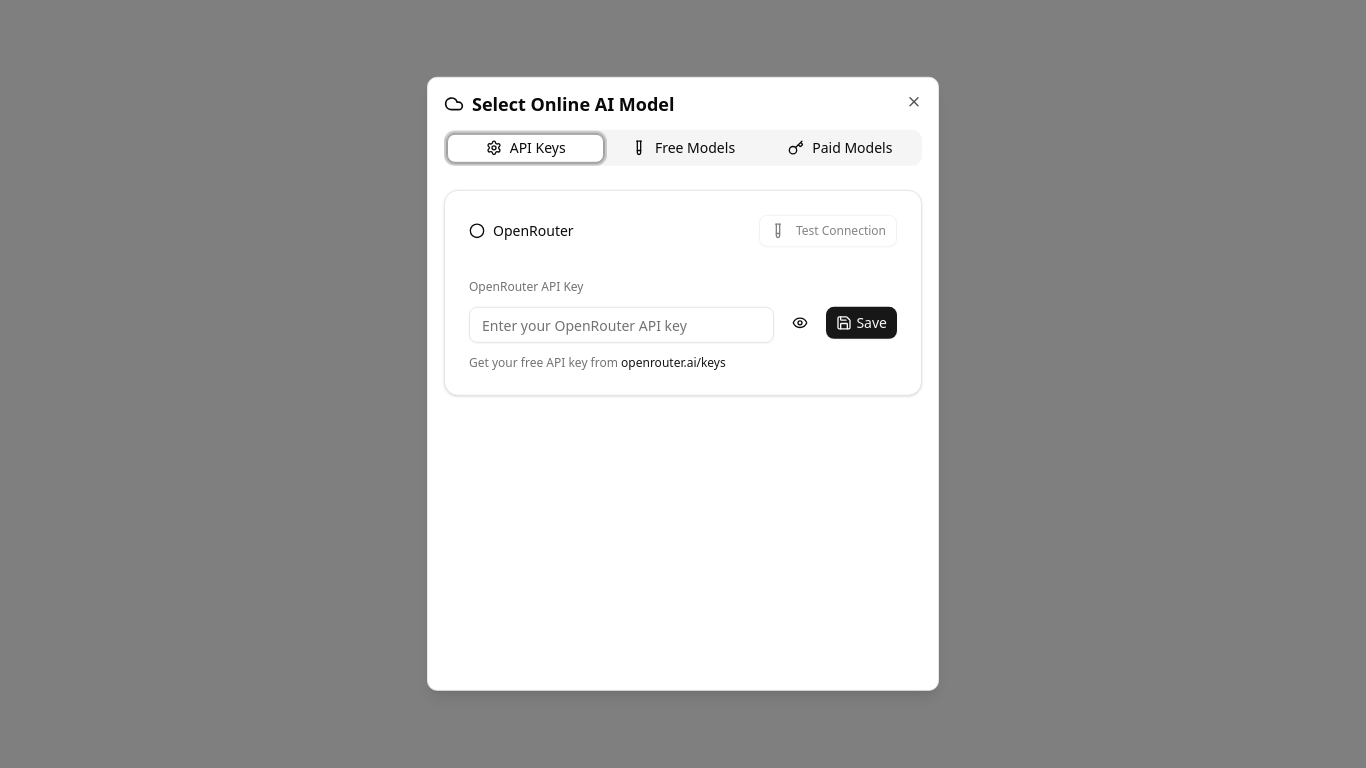
Test: OnlineModelDialog › shows error state
What coordinates should you click on to do the following:
click the tab "Free Models"
I would click on:
 (683, 148)
Its box is [604,133,762,162].
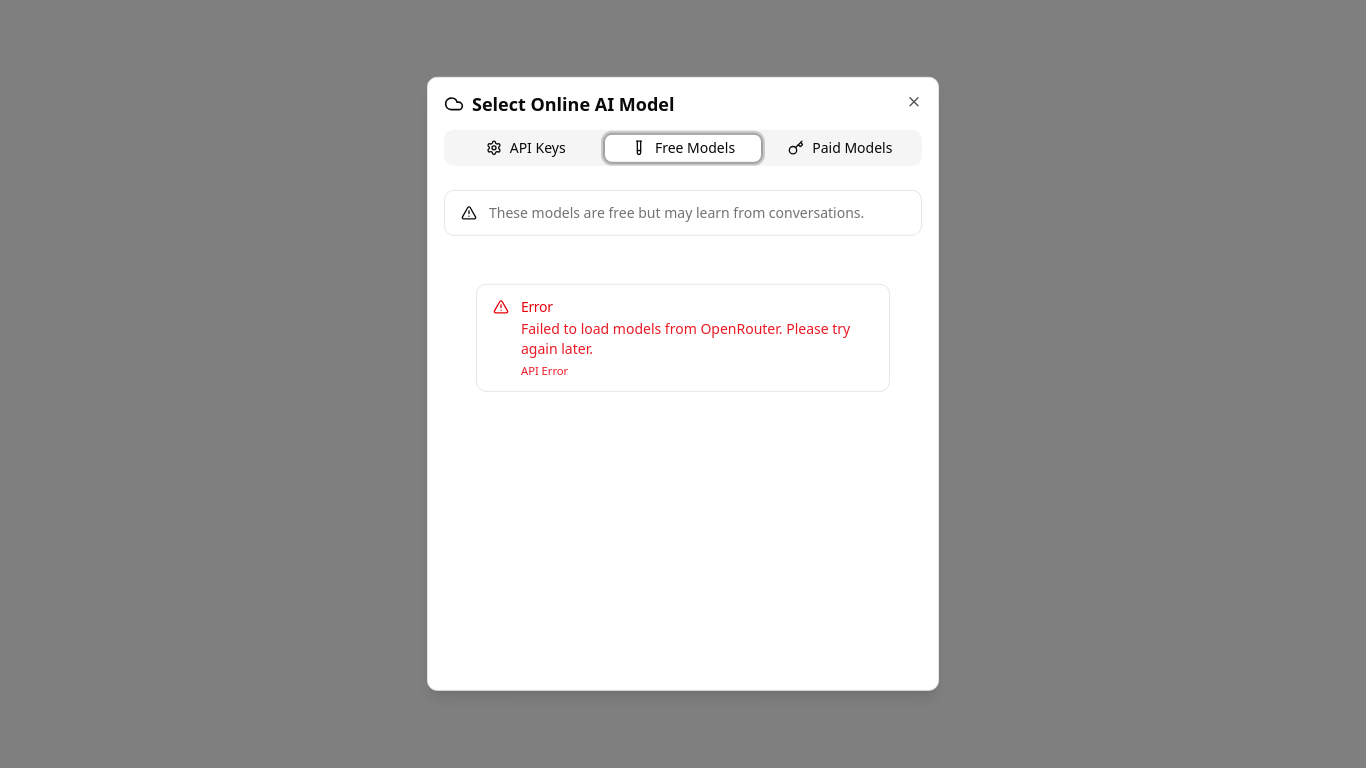
Expected: the text "Failed to load models" is shown, [521,319,850,358]
Expected: the text "API Error" is shown, [521,363,568,379]
